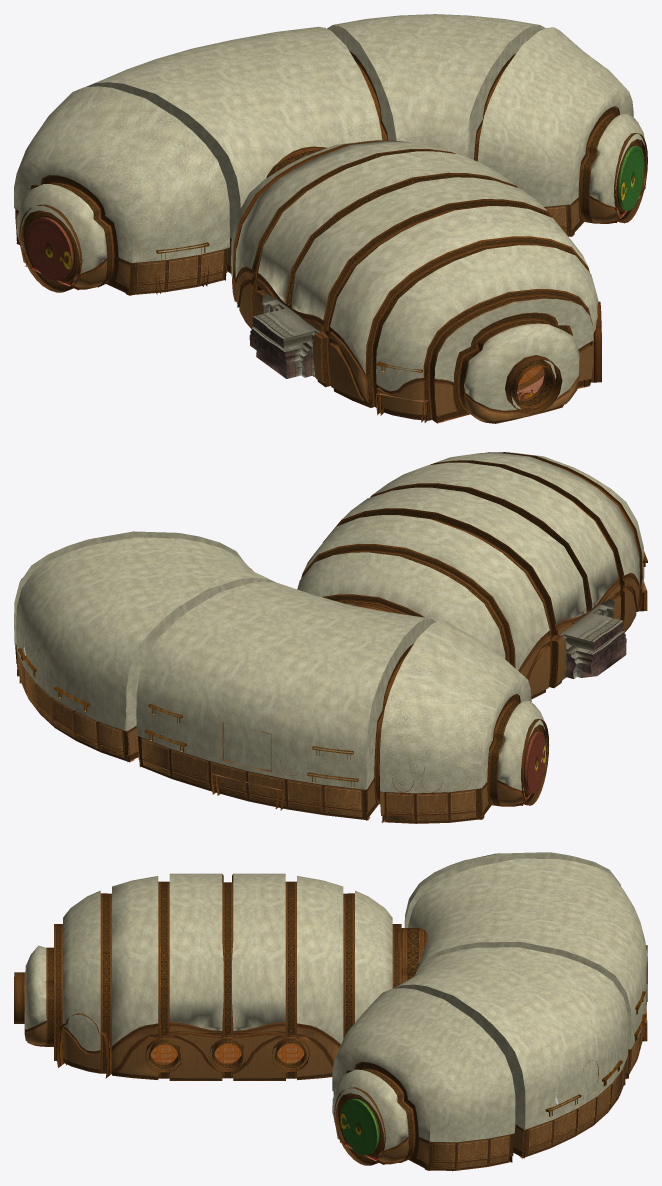
Rendered from BAGENDINTERIOR_BE_BAGEND.obj.
The picture shows the model from 3 angles, top to bottom: view 1: azimuth 30°, elevation 25°; view 2: azimuth 150°, elevation 25°; view 3: azimuth 270°, elevation 25°; orthographic projection. The views are drawn at different scales.
Parts seen in each view (by area): view 1: BE_BagEnd; view 2: BE_BagEnd; view 3: BE_BagEnd.
Part boxes in pixels (box(x1,y1,x2,y2)): BE_BagEnd: box(14, 14, 647, 423); BE_BagEnd: box(14, 452, 647, 823); BE_BagEnd: box(14, 852, 647, 1171).
Bounding box in the file's own units: 1182 × 333 × 1303.
